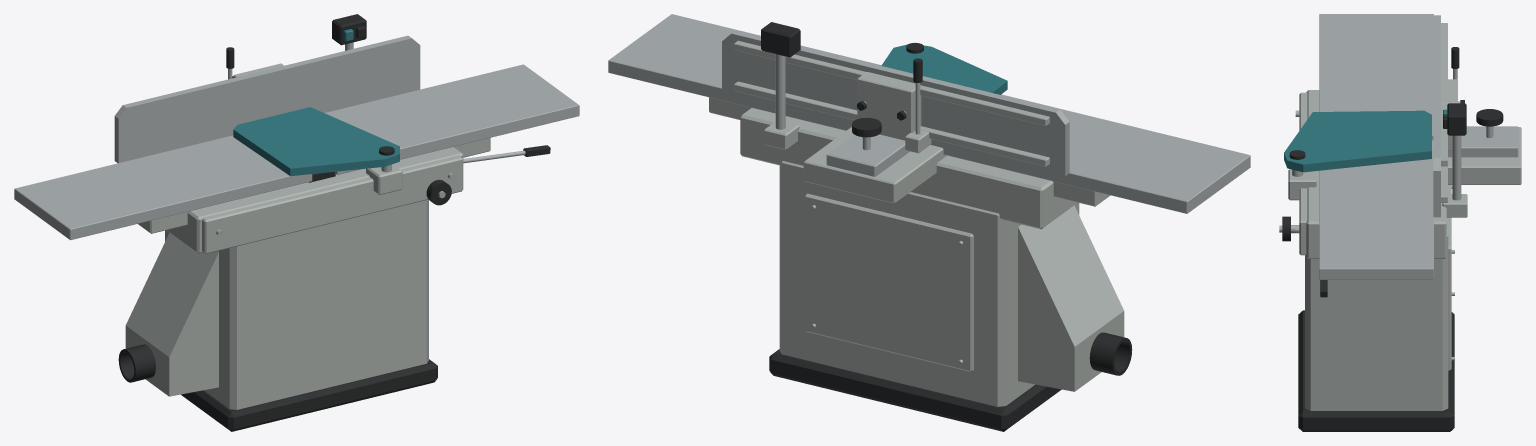
3 renders of one model, left to right at view 1: azimuth 30°, elevation 25°; view 2: azimuth 150°, elevation 25°; view 3: azimuth 270°, elevation 25°, orthographic. The views are drawn at different scales.
Visible parts, largest first — view 1: Low enclosed cabinet, Long upright straight fence, Long exposed worktable -0.496, Long exposed worktable 0.496, Tapered side extraction hood, Front apron, Central covered cutter guard, Continuous floor plinth, Main upper casting, Hollow side outlet lip, Guard pivot bracket, Raised switch pod (+1 smaller); view 2: Rear cabinet service panel, Low enclosed cabinet, Tapered side extraction hood, Long upright straight fence, Long exposed worktable -0.496, Main upper casting, Long exposed worktable 0.496, Continuous floor plinth, Rear fence mounting base, Fence rear mounting block, Central covered cutter guard, Rear fence stiffening rail 0.992 (+7 smaller); view 3: Low enclosed cabinet, Long exposed worktable 0.496, Long exposed worktable -0.496, Central covered cutter guard, Continuous floor plinth, Rear fence mounting base, Main upper casting, Fence sliding carriage, Long upright straight fence, Front apron, Rear fence stiffening rail 0.992, Raised switch pod (+7 smaller).
Part boxes in pixels (left/top/right/bottom): Low enclosed cabinet: left=165, top=199, right=428, bottom=409; Long upright straight fence: left=114, top=35, right=420, bottom=163; Long exposed worktable -0.496: left=14, top=135, right=312, bottom=240; Long exposed worktable 0.496: left=324, top=64, right=579, bottom=174; Tapered side extraction hood: left=125, top=232, right=218, bottom=396; Front apron: left=202, top=155, right=463, bottom=253; Central covered cutter guard: left=233, top=107, right=399, bottom=176; Continuous floor plinth: left=181, top=359, right=437, bottom=431; Main upper casting: left=167, top=147, right=463, bottom=253; Hollow side outlet lip: left=118, top=344, right=155, bottom=382; Guard pivot bracket: left=366, top=164, right=402, bottom=194; Raised switch pod: left=332, top=14, right=366, bottom=45; Rear cabinet service panel: left=804, top=193, right=973, bottom=371; Low enclosed cabinet: left=779, top=161, right=1079, bottom=406; Tapered side extraction hood: left=1018, top=205, right=1124, bottom=391; Long upright straight fence: left=722, top=30, right=1069, bottom=175; Long exposed worktable -0.496: left=931, top=94, right=1250, bottom=213; Main upper casting: left=740, top=108, right=1077, bottom=229; Long exposed worktable 0.496: left=608, top=14, right=881, bottom=130; Continuous floor plinth: left=769, top=349, right=1061, bottom=431; Rear fence mounting base: left=803, top=127, right=946, bottom=203; Fence rear mounting block: left=857, top=71, right=921, bottom=140; Central covered cutter guard: left=881, top=44, right=1007, bottom=94; Rear fence stiffening rail 0.992: left=734, top=40, right=1049, bottom=125; Low enclosed cabinet: left=1305, top=185, right=1448, bottom=410; Long exposed worktable 0.496: left=1319, top=147, right=1433, bottom=279; Long exposed worktable -0.496: left=1319, top=14, right=1433, bottom=140; Central covered cutter guard: left=1284, top=110, right=1431, bottom=172; Continuous floor plinth: left=1298, top=310, right=1454, bottom=431; Rear fence mounting base: left=1432, top=127, right=1521, bottom=184; Main upper casting: left=1306, top=90, right=1446, bottom=258; Fence sliding carriage: left=1448, top=126, right=1518, bottom=157; Long upright straight fence: left=1433, top=15, right=1440, bottom=217; Front apron: left=1299, top=92, right=1307, bottom=255; Rear fence stiffening rail 0.992: left=1441, top=23, right=1447, bottom=166; Raised switch pod: left=1447, top=103, right=1466, bottom=135.
Bounding box in the file's own units: 1.89 × 1.1 × 0.76.
